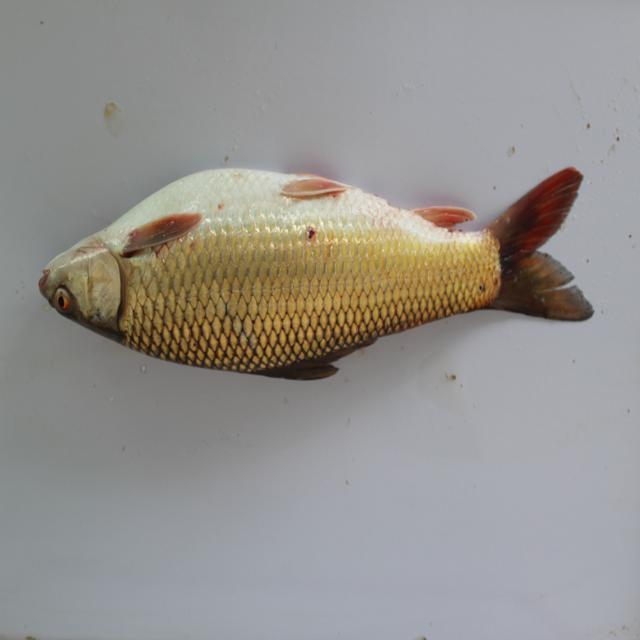Mori: (34, 156, 615, 393)
